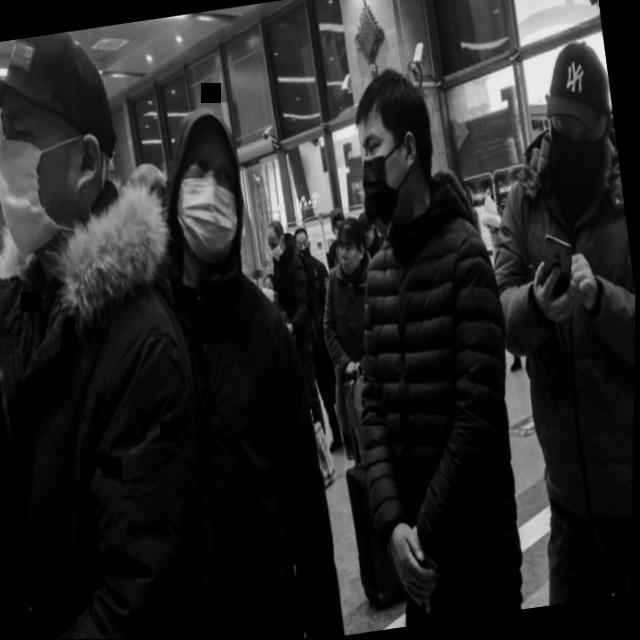Mask: (0, 25, 142, 278), (517, 43, 628, 229), (341, 62, 448, 244), (155, 115, 260, 277), (261, 216, 291, 264), (291, 224, 315, 263), (259, 269, 282, 306)
NO-Mask: (329, 217, 373, 282)
